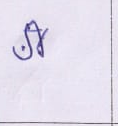i_matra: (30, 20, 49, 57)
